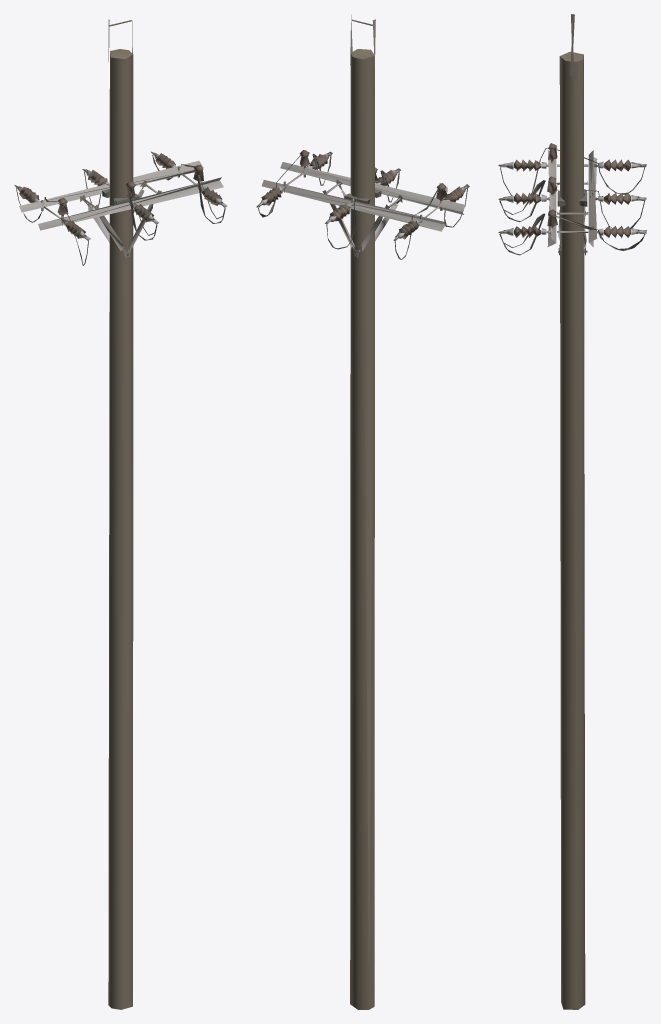
The model's file is utility-pole.glb.
The picture shows the model from 3 angles, left to right: view 1: azimuth 30°, elevation 25°; view 2: azimuth 150°, elevation 25°; view 3: azimuth 270°, elevation 25°; orthographic projection.
Parts seen in each view (by area): view 1: utility-pole; view 2: utility-pole; view 3: utility-pole.
Boxes of the visible parts, <box> form: utility-pole: <box>14,19,227,1009</box>; utility-pole: <box>256,14,469,1009</box>; utility-pole: <box>498,14,646,1009</box>.
Size of the model in its own units: 1.2 by 6.23 by 0.8522.
